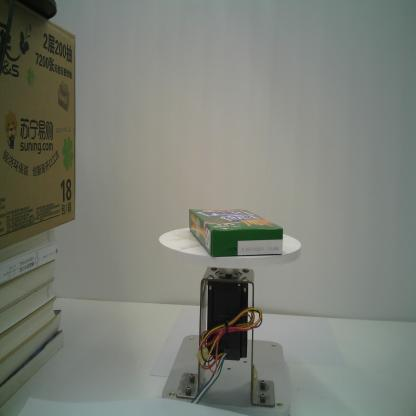Dessert: (188, 205, 284, 257)
